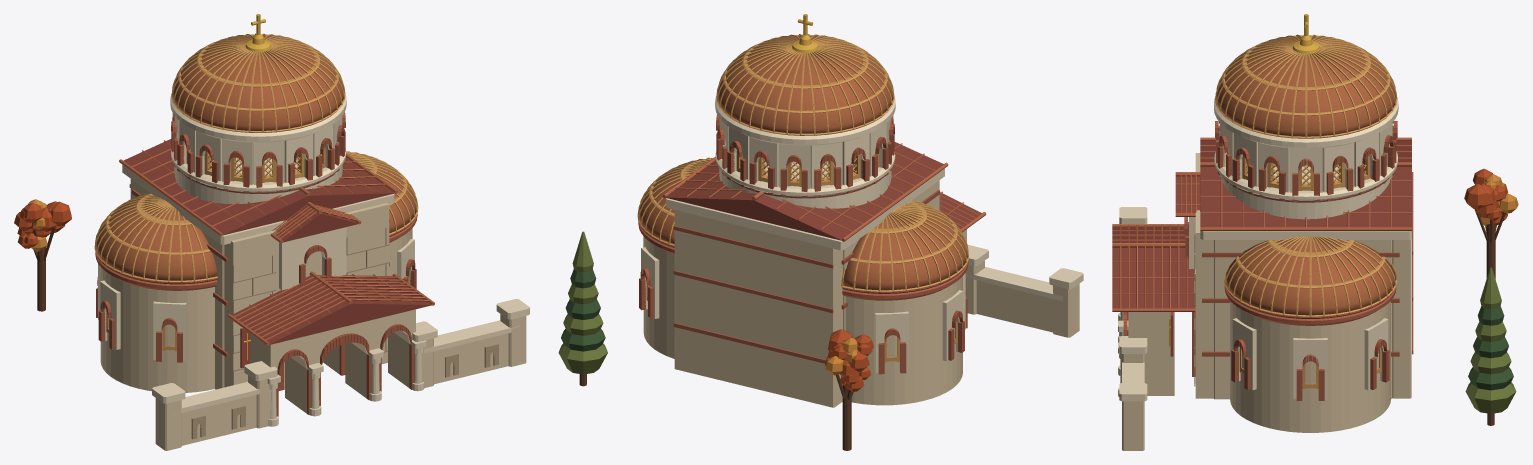
Rendered from constantinople.glb.
3 renders of one model, left to right at view 1: azimuth 30°, elevation 25°; view 2: azimuth 150°, elevation 25°; view 3: azimuth 270°, elevation 25°, orthographic. The views are drawn at different scales.
Visible parts, largest first — view 1: constantinople__B03R2_constantinople_Stone, constantinople__B03R2_constantinople_StoneLight, constantinople__B03R2_constantinople_Copper, constantinople__B03R2_constantinople_Roof, constantinople__B03R2_constantinople_CopperEdge, constantinople__B03R2_constantinople_Brick, constantinople__B03R2_constantinople_RoofEdge, constantinople__B03R2_constantinople_Autumn, constantinople__B03R2_constantinople_StoneShade, constantinople__B03R2_constantinople_Wood, constantinople__B03R2_constantinople_Mortar, constantinople__B03R2_constantinople_Gold; view 2: constantinople__B03R2_constantinople_Stone, constantinople__B03R2_constantinople_StoneLight, constantinople__B03R2_constantinople_Copper, constantinople__B03R2_constantinople_CopperEdge, constantinople__B03R2_constantinople_Brick, constantinople__B03R2_constantinople_Roof, constantinople__B03R2_constantinople_RoofEdge, constantinople__B03R2_constantinople_LeafLight, constantinople__B03R2_constantinople_Autumn, constantinople__B03R2_constantinople_Leaf, constantinople__B03R2_constantinople_Wood, constantinople__B03R2_constantinople_AutumnLight; view 3: constantinople__B03R2_constantinople_Stone, constantinople__B03R2_constantinople_Copper, constantinople__B03R2_constantinople_StoneLight, constantinople__B03R2_constantinople_CopperEdge, constantinople__B03R2_constantinople_Roof, constantinople__B03R2_constantinople_Brick, constantinople__B03R2_constantinople_RoofEdge, constantinople__B03R2_constantinople_LeafLight, constantinople__B03R2_constantinople_Leaf, constantinople__B03R2_constantinople_Autumn, constantinople__B03R2_constantinople_Wood, constantinople__B03R2_constantinople_AutumnLight (+1 smaller).
Boxes of the visible parts, x1,y1,x2,y2 form: constantinople__B03R2_constantinople_Stone: [100, 179, 526, 450]; constantinople__B03R2_constantinople_StoneLight: [98, 93, 529, 426]; constantinople__B03R2_constantinople_Copper: [96, 35, 416, 282]; constantinople__B03R2_constantinople_Roof: [123, 139, 432, 344]; constantinople__B03R2_constantinople_CopperEdge: [94, 33, 418, 351]; constantinople__B03R2_constantinople_Brick: [95, 112, 417, 416]; constantinople__B03R2_constantinople_RoofEdge: [119, 140, 434, 345]; constantinople__B03R2_constantinople_Autumn: [14, 201, 71, 248]; constantinople__B03R2_constantinople_StoneShade: [191, 344, 498, 439]; constantinople__B03R2_constantinople_Wood: [33, 226, 55, 311]; constantinople__B03R2_constantinople_Mortar: [233, 227, 389, 385]; constantinople__B03R2_constantinople_Gold: [243, 14, 271, 360]; constantinople__B03R2_constantinople_Stone: [643, 180, 1079, 407]; constantinople__B03R2_constantinople_StoneLight: [641, 95, 1083, 372]; constantinople__B03R2_constantinople_Copper: [639, 36, 967, 292]; constantinople__B03R2_constantinople_CopperEdge: [637, 34, 968, 362]; constantinople__B03R2_constantinople_Brick: [638, 114, 968, 374]; constantinople__B03R2_constantinople_Roof: [665, 142, 981, 240]; constantinople__B03R2_constantinople_RoofEdge: [662, 143, 986, 241]; constantinople__B03R2_constantinople_LeafLight: [558, 231, 607, 374]; constantinople__B03R2_constantinople_Autumn: [825, 329, 873, 391]; constantinople__B03R2_constantinople_Leaf: [561, 269, 605, 351]; constantinople__B03R2_constantinople_Wood: [579, 374, 853, 450]; constantinople__B03R2_constantinople_AutumnLight: [825, 337, 863, 380]; constantinople__B03R2_constantinople_Stone: [1122, 153, 1411, 450]; constantinople__B03R2_constantinople_Copper: [1216, 36, 1395, 317]; constantinople__B03R2_constantinople_StoneLight: [1118, 97, 1411, 401]; constantinople__B03R2_constantinople_CopperEdge: [1215, 34, 1397, 388]; constantinople__B03R2_constantinople_Roof: [1112, 141, 1411, 308]; constantinople__B03R2_constantinople_Brick: [1123, 121, 1413, 400]; constantinople__B03R2_constantinople_RoofEdge: [1112, 137, 1411, 311]; constantinople__B03R2_constantinople_LeafLight: [1465, 267, 1516, 413]; constantinople__B03R2_constantinople_Leaf: [1468, 306, 1513, 390]; constantinople__B03R2_constantinople_Autumn: [1464, 168, 1507, 225]; constantinople__B03R2_constantinople_Wood: [1475, 211, 1505, 425]; constantinople__B03R2_constantinople_AutumnLight: [1480, 174, 1518, 226].
Bounding box in the file's own units: 4.13 × 3.53 × 3.78.
